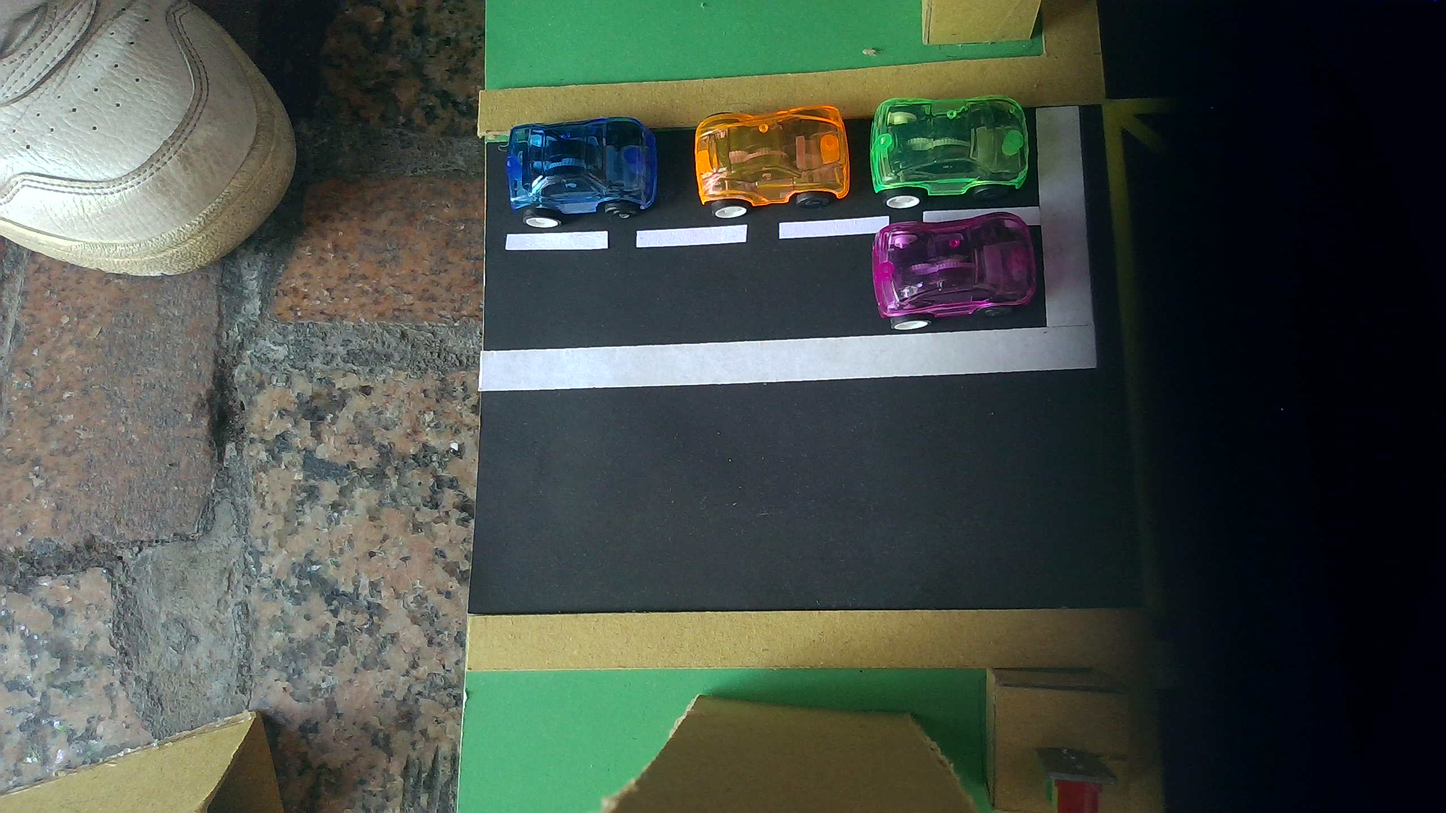Mobil biru: (505, 117, 657, 228)
Mobil hijau: (869, 95, 1030, 208)
Mobil orange: (694, 106, 850, 218)
Mobil ungu: (872, 212, 1037, 330)
